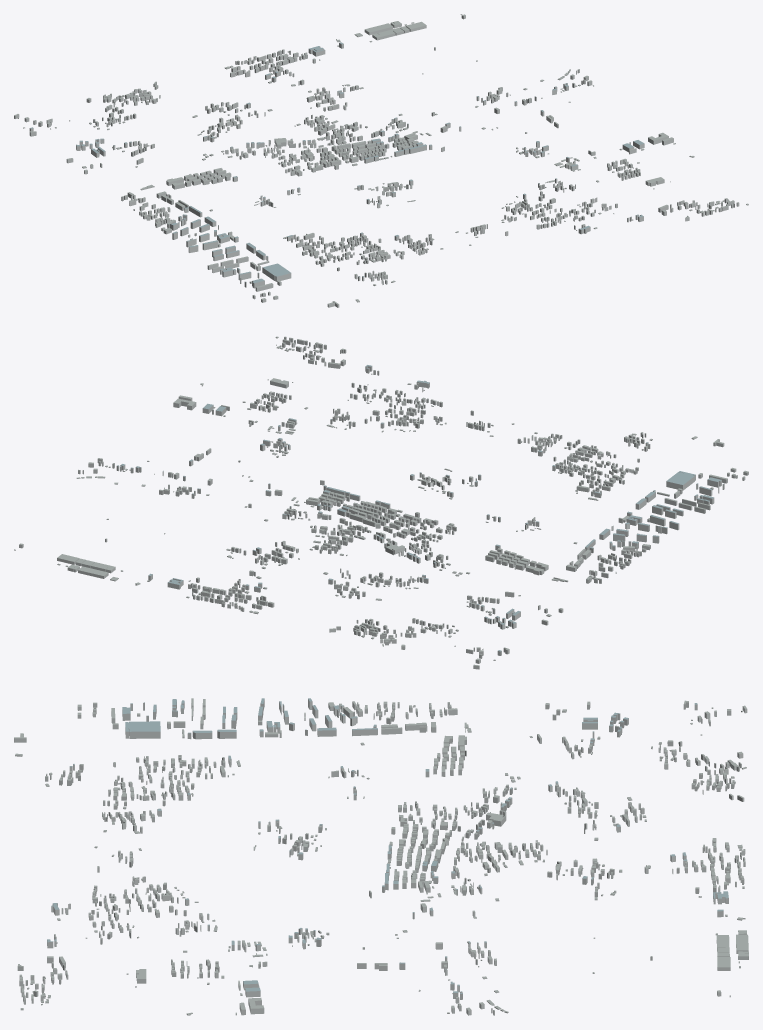
Rendered from far.glb.
The picture shows the model from 3 angles, top to bottom: view 1: azimuth 30°, elevation 25°; view 2: azimuth 150°, elevation 25°; view 3: azimuth 270°, elevation 25°; orthographic projection. The views are drawn at different scales.
Size of the model in its own units: 2121 by 26.9 by 2113.
